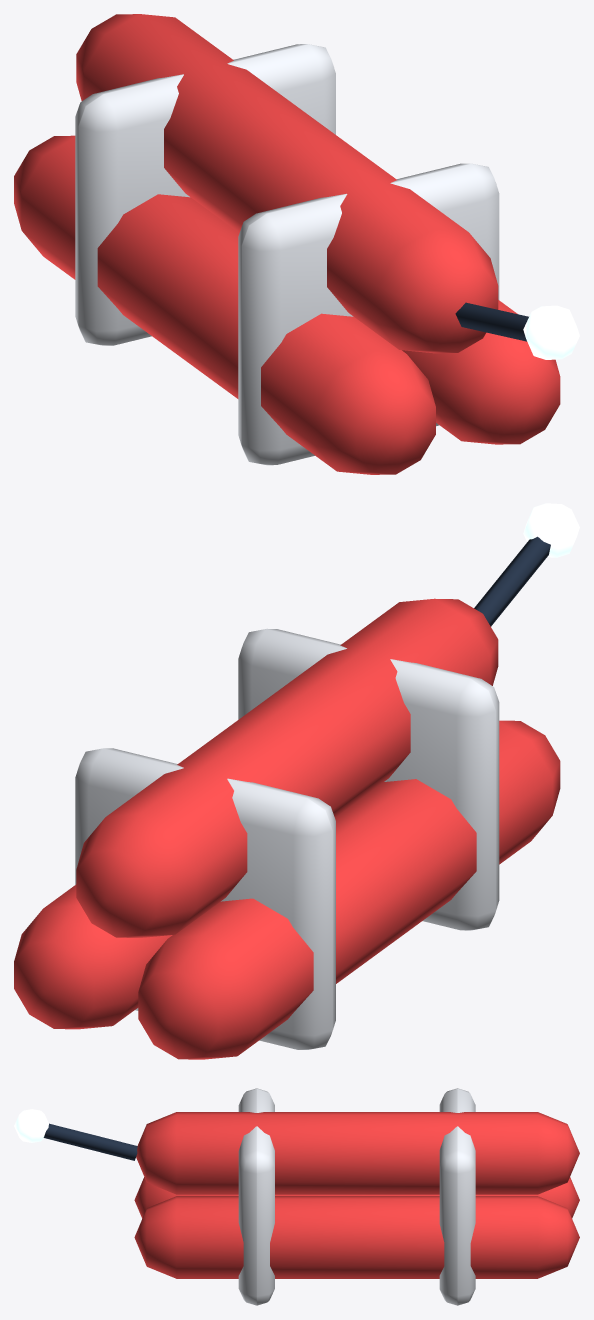
The model's file is Dynamite.fbx.
3 views of the same model, one above another, from view 1: azimuth 30°, elevation 25°; view 2: azimuth 150°, elevation 25°; view 3: azimuth 270°, elevation 25° (orthographic). The views are drawn at different scales.
Visible parts, largest first — view 1: Dynamite; view 2: Dynamite; view 3: Dynamite.
Part boxes in pixels (x1,y1,x2,y2): Dynamite: (14,14,579,474); Dynamite: (14,503,579,1059); Dynamite: (14,1088,579,1305).
Size of the model in its own units: 0.09 by 0.0905 by 0.282.
